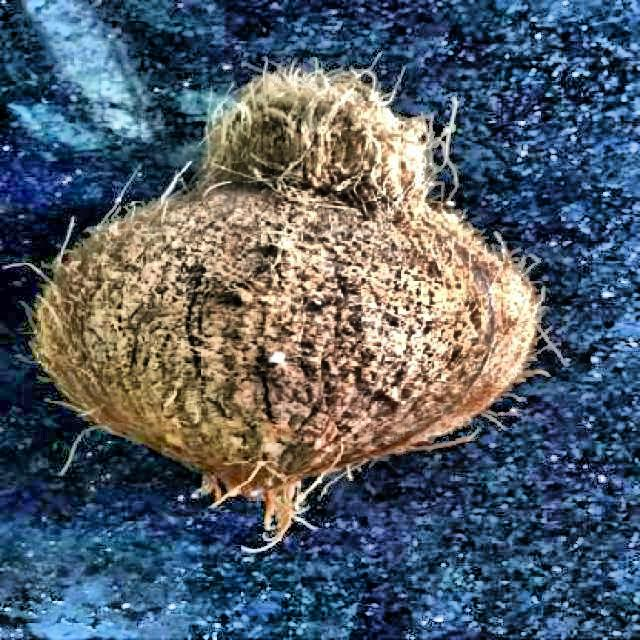good: (40, 39, 571, 557)
